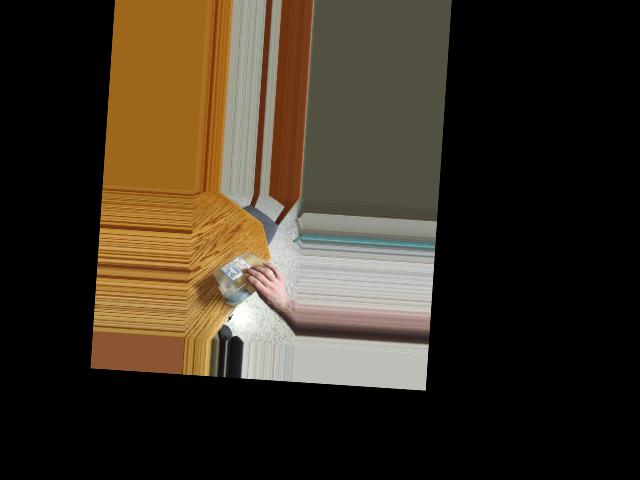cheese: (211, 250, 279, 306)
